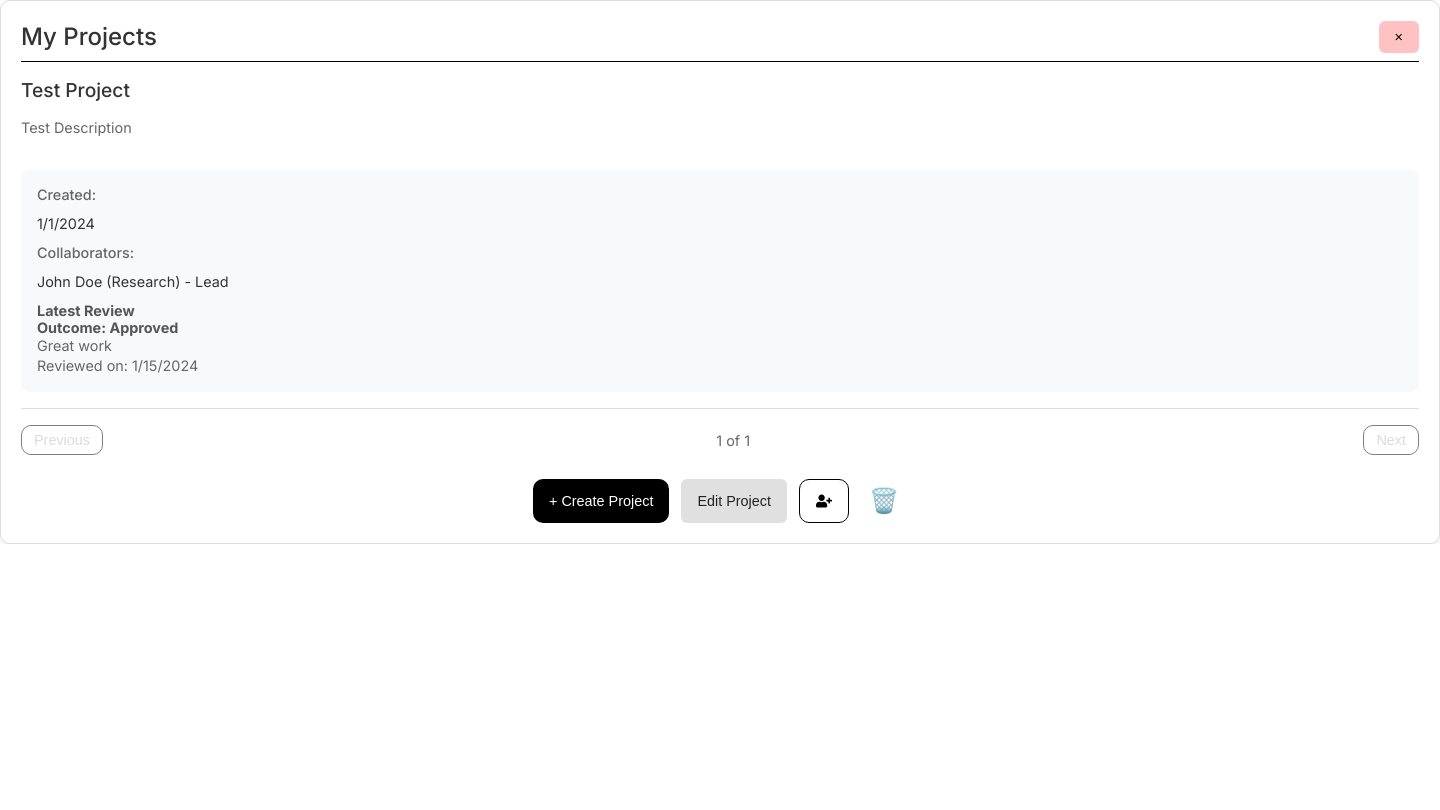
Scenario: ProjectsWidget › opens invite collaborators modal when invite button is clicked
Expected: the heading "Test Project" is shown, [21,78,130,102]
Click the button titled "Invite Collaborators": click(824, 502) [799,480,849,524]
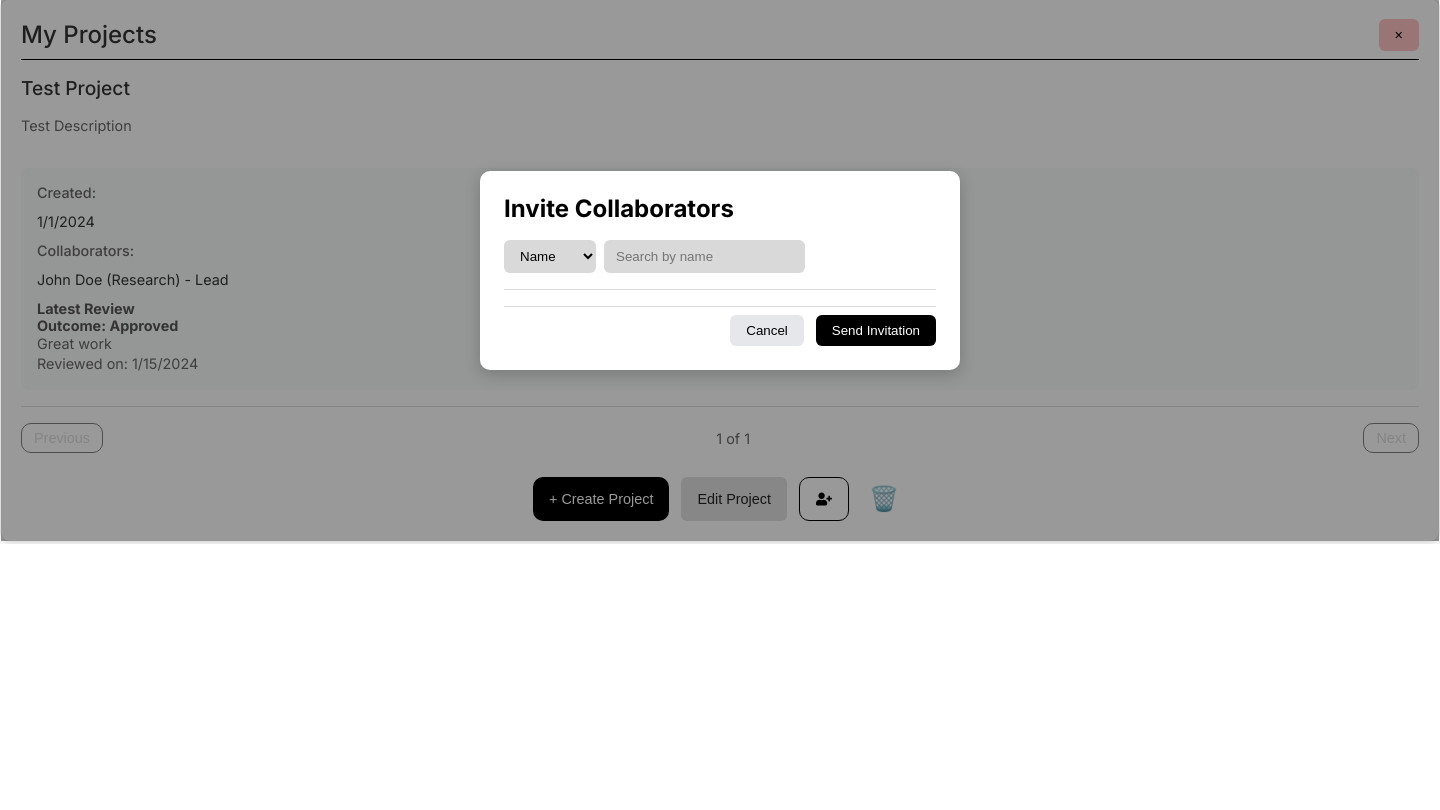
Result: the heading "Invite Collaborators" is shown at [504,194,734,223]
